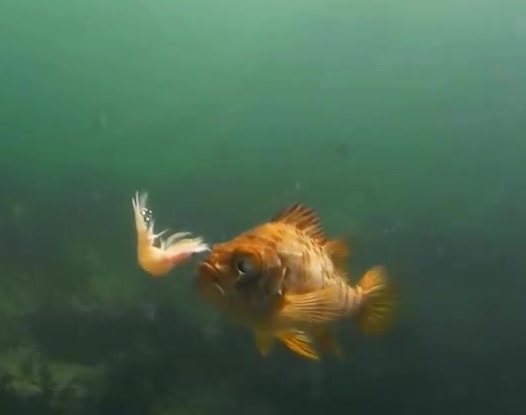mebaru: (170, 201, 405, 350)
